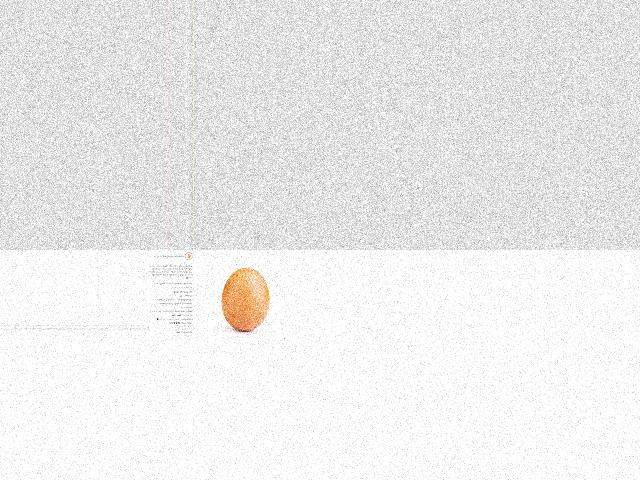egg: (221, 268, 269, 331)
